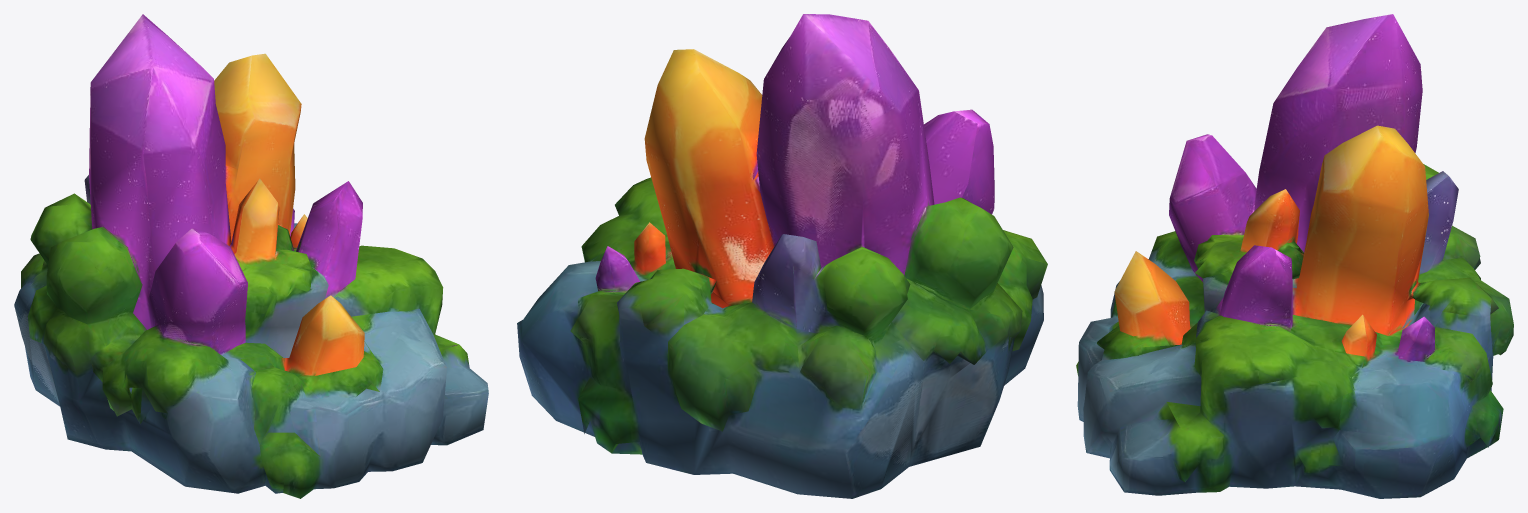
Rendered from crystals-B2cpS7Tg.glb.
The picture shows the model from 3 angles, left to right: view 1: azimuth 30°, elevation 25°; view 2: azimuth 150°, elevation 25°; view 3: azimuth 270°, elevation 25°; orthographic projection. The views are drawn at different scales.
Parts seen in each view (by area): view 1: crystals; view 2: crystals; view 3: crystals.
Boxes of the visible parts, x1,y1,x2,y2 form: crystals: (14, 14, 488, 498); crystals: (517, 14, 1047, 498); crystals: (1076, 14, 1513, 498).
Bounding box in the file's own units: 2.18 × 2.1 × 2.2.
1 material, 1 textured.
